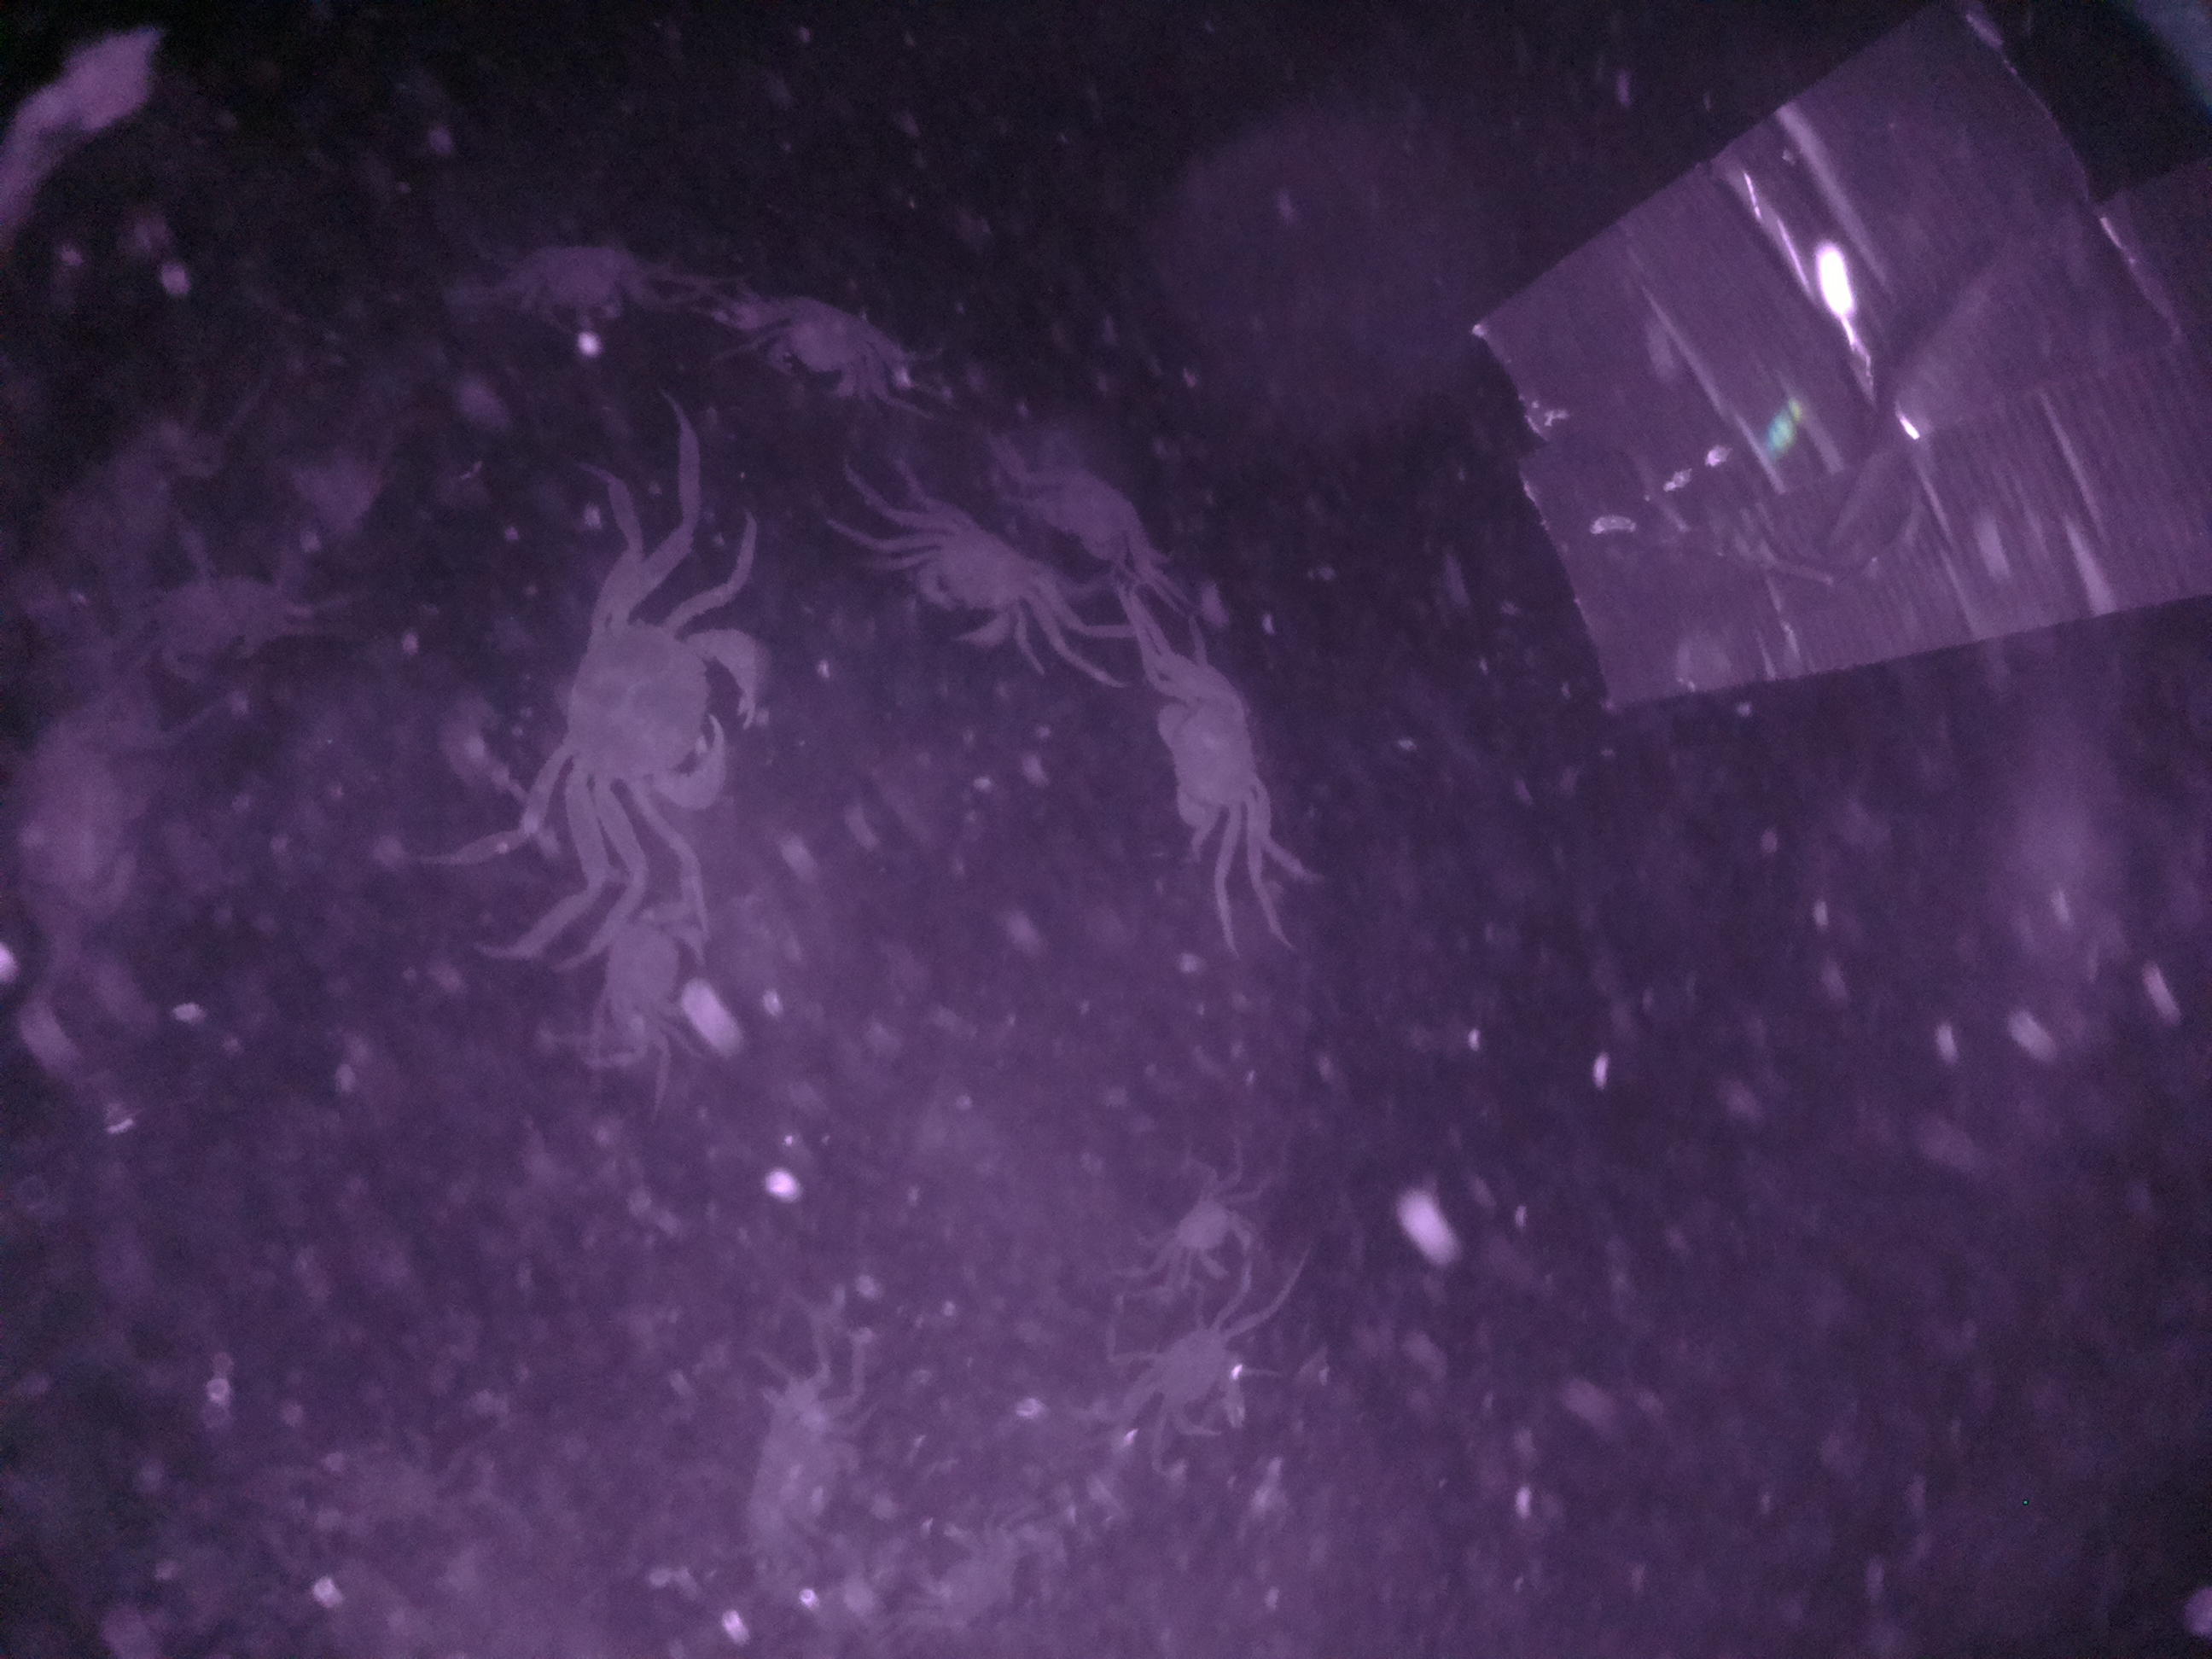Crab: (543, 592, 775, 847), (894, 497, 1069, 664), (1146, 660, 1287, 850), (1143, 1310, 1268, 1464), (596, 889, 719, 1042), (756, 295, 892, 406), (1169, 1182, 1258, 1284)
